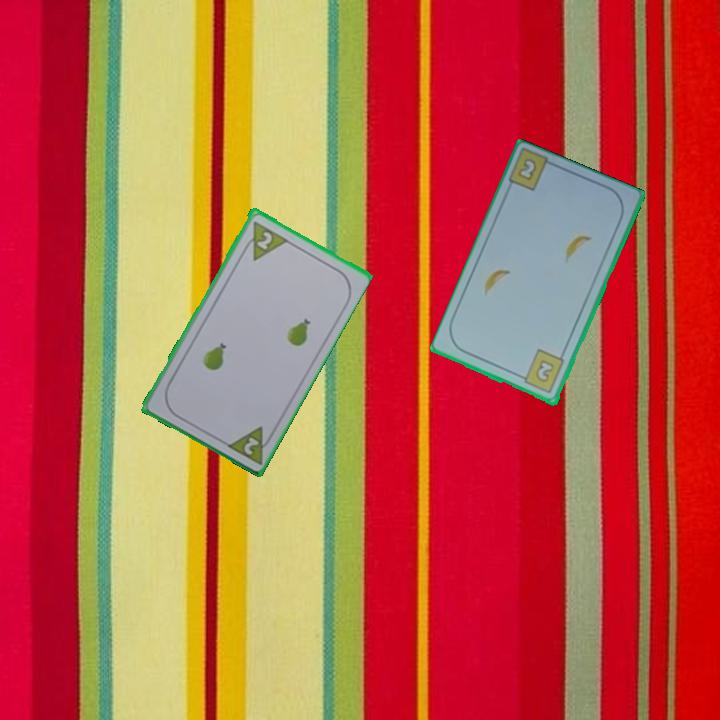2b: (516, 346, 567, 397), (514, 155, 540, 184)
2p: (222, 422, 277, 467), (253, 227, 275, 252)
